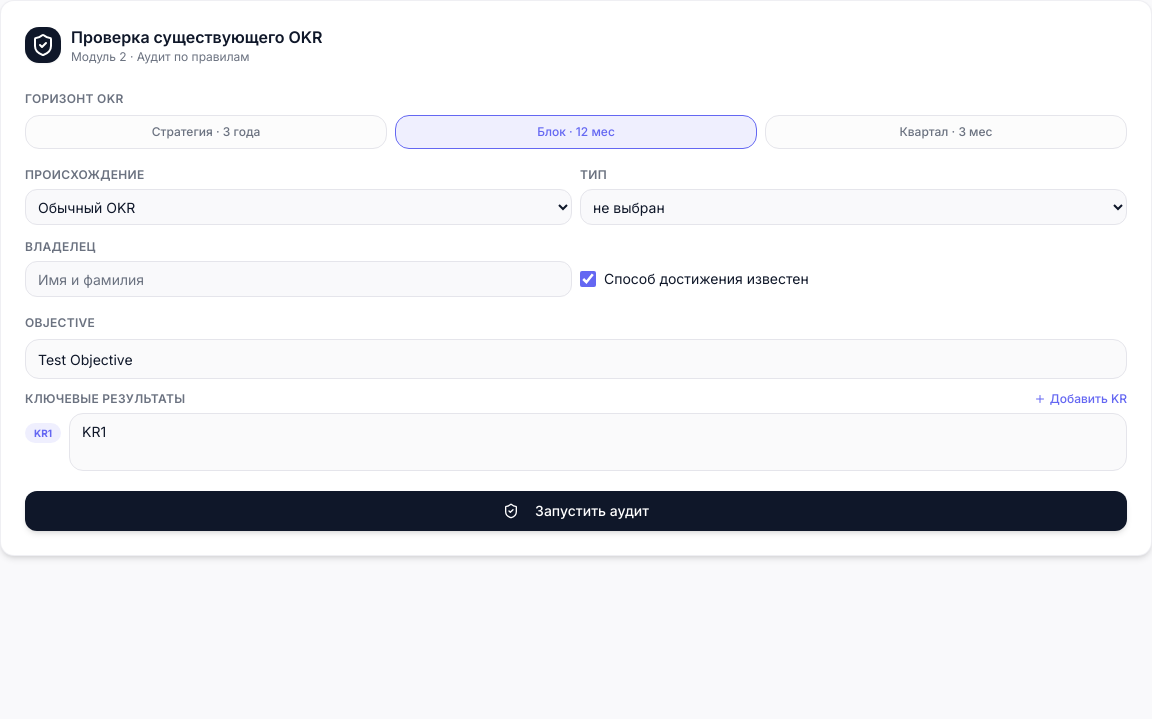
it: OkrValidator (Module 2) › рендерит бейдж с реально использованной моделью (report.model_used)
Click the button "Запустить аудит" at (576, 511), box [25,491,1127,531]
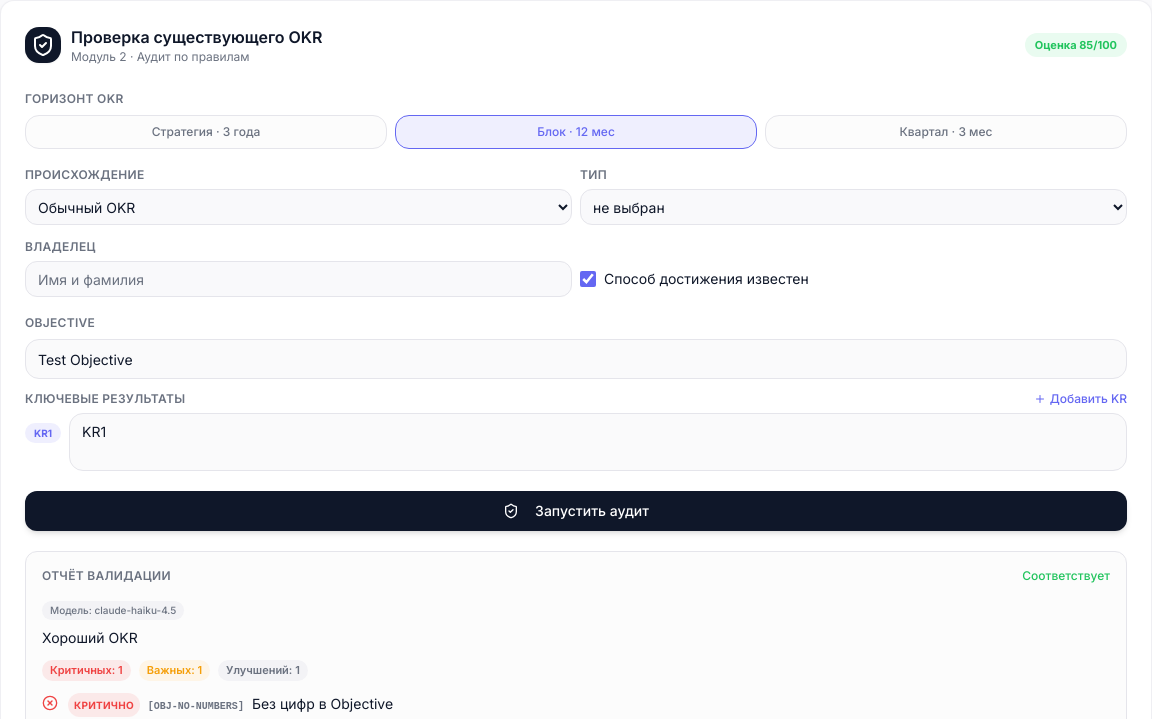
Expected: the text with test id "model-used-badge" shows "claude-haiku-4.5", [94,604,176,616]
